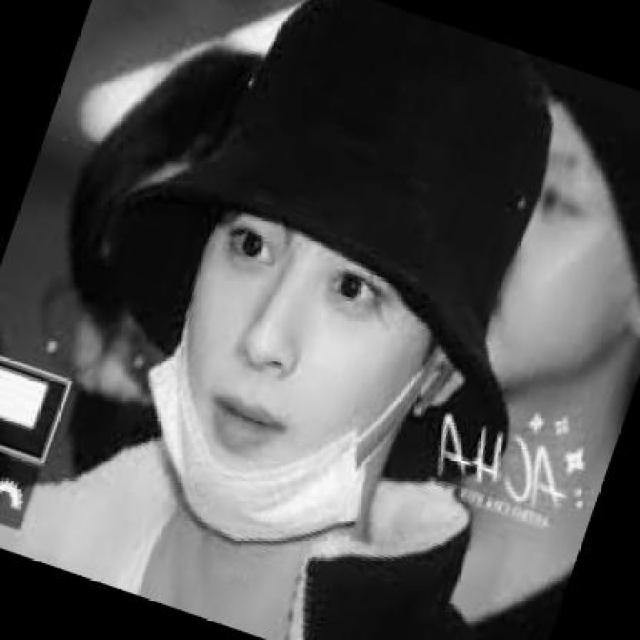earphone: (422, 326, 462, 431)
